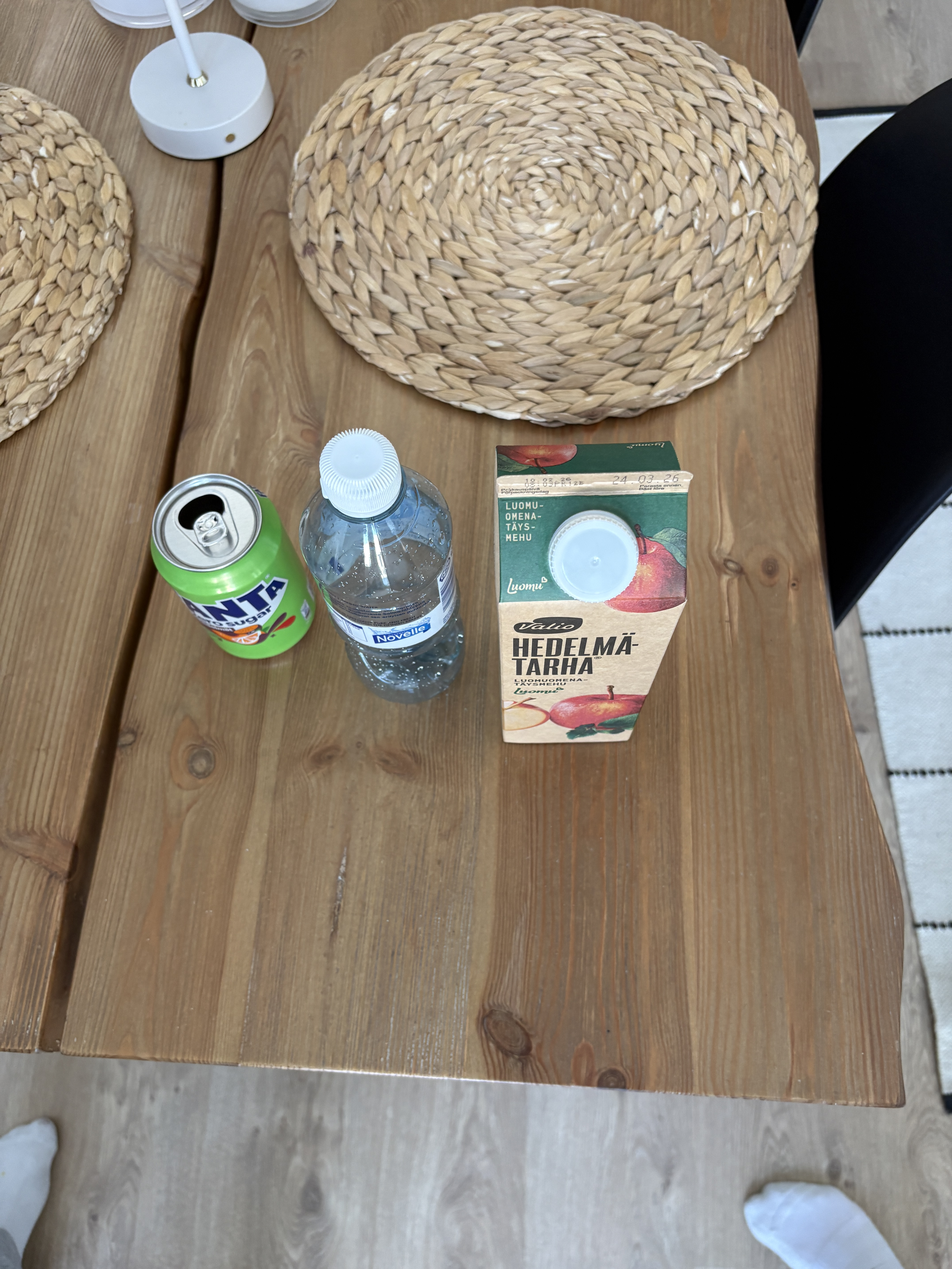Dryckeskartong: (482, 436, 697, 773)
Pantburk: (301, 425, 472, 734), (125, 450, 300, 691)
